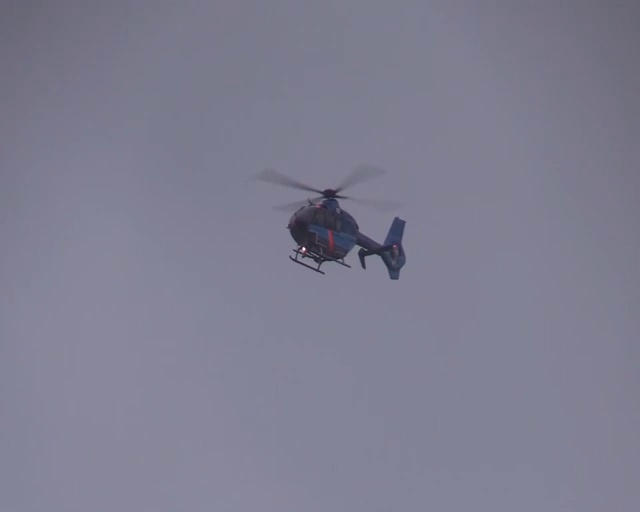HELICOPTER: (250, 163, 408, 278)
